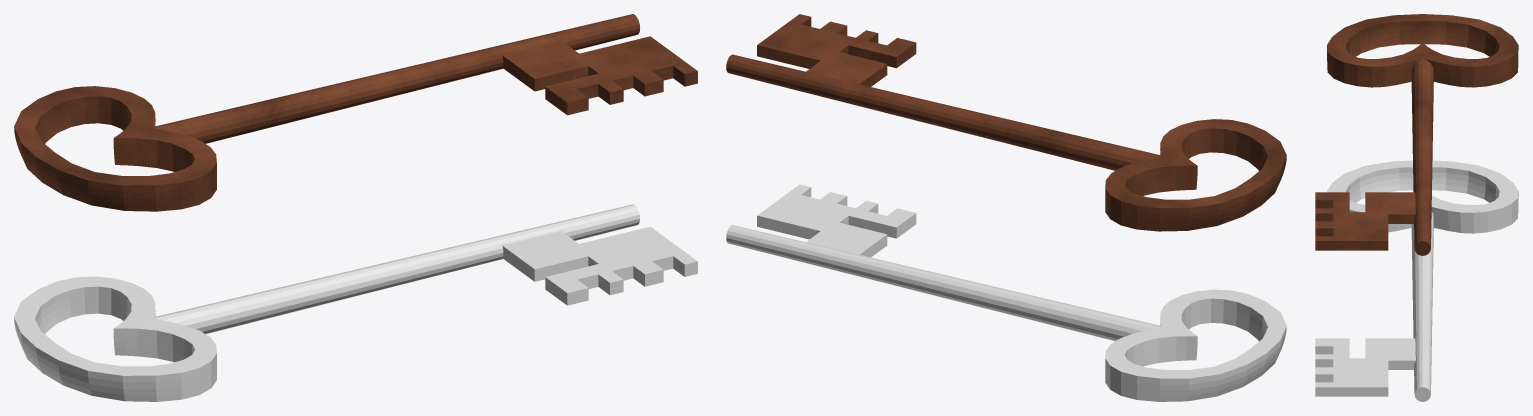
File: llave.fbx
The picture shows the model from 3 angles, left to right: view 1: azimuth 30°, elevation 25°; view 2: azimuth 150°, elevation 25°; view 3: azimuth 270°, elevation 25°; orthographic projection. The views are drawn at different scales.
Parts seen in each view (by area): view 1: Llave.001, Llave; view 2: Llave, Llave.001; view 3: Llave, Llave.001.
Part boxes in pixels (box(x1,y1,x2,y2)): Llave.001: box(14, 204, 697, 401); Llave: box(14, 14, 697, 211); Llave: box(726, 14, 1286, 231); Llave.001: box(726, 184, 1286, 401); Llave: box(1315, 14, 1518, 255); Llave.001: box(1315, 160, 1518, 401).
Size of the model in its own units: 10.36 by 3.6 by 3.97.
2 materials, 1 textured.
